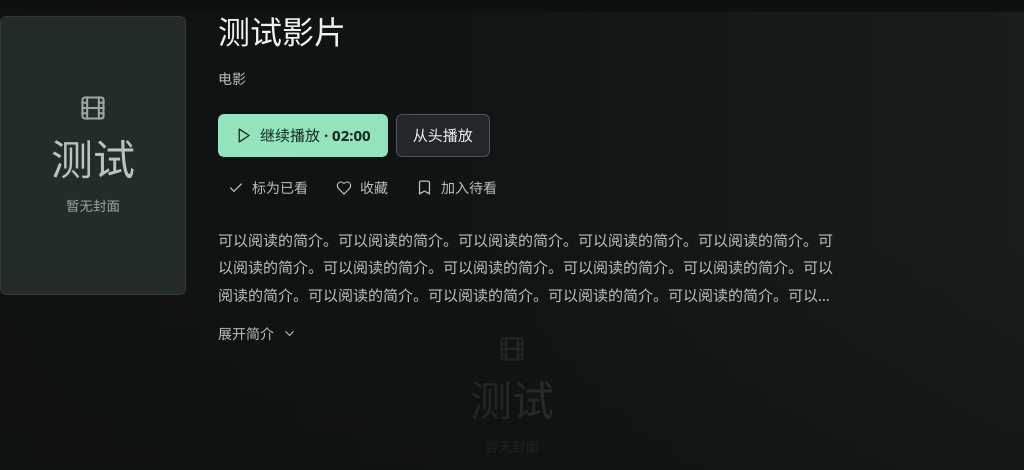
it: keeps resume as primary action, expands long descriptions and cleans server HTML
Expected: the button "继续播放 · 02:00" is shown, [218, 114, 388, 157]
Click the button "展开简介" at point(262, 334), box [218, 318, 305, 350]
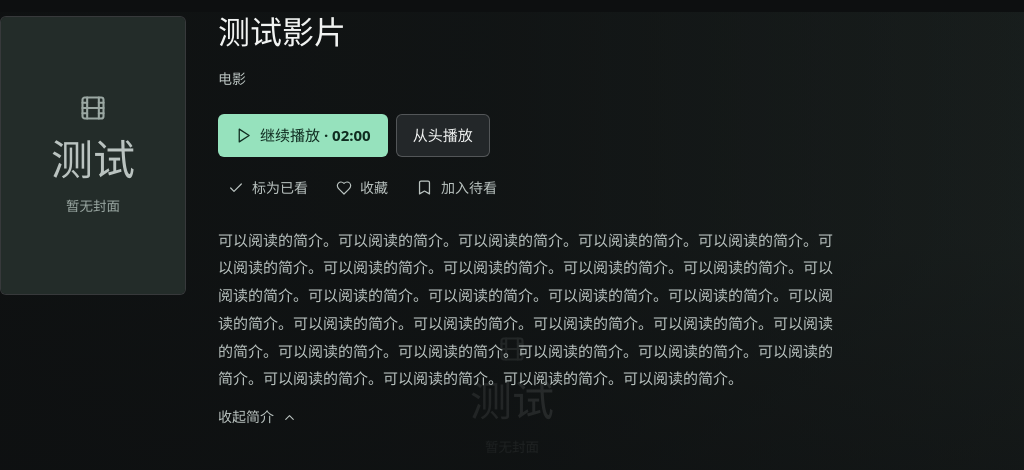
Result: the button "收起简介" is expanded at [218, 401, 305, 433]
